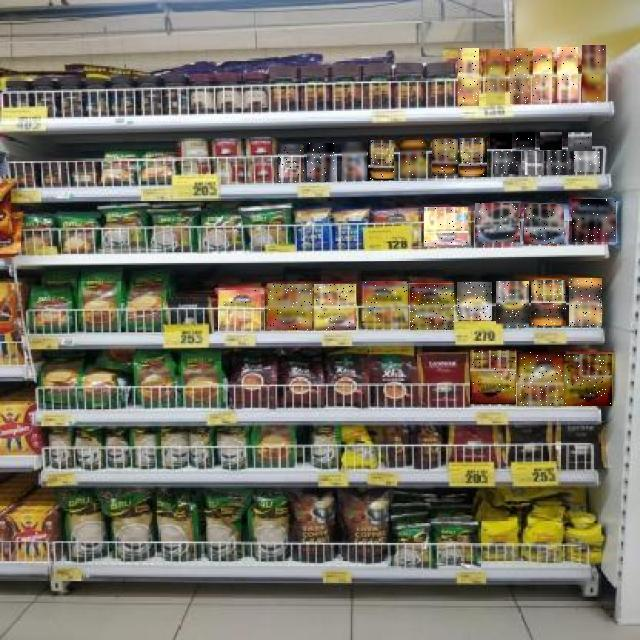Coffee: (517, 352, 565, 406), (565, 354, 613, 406), (470, 350, 516, 404), (364, 283, 408, 329), (411, 284, 455, 330), (268, 284, 312, 330), (572, 200, 616, 244), (315, 284, 357, 330), (219, 290, 265, 332), (475, 204, 520, 246), (424, 207, 468, 247), (531, 280, 566, 326), (524, 204, 564, 244), (569, 279, 602, 327), (496, 282, 529, 328), (582, 45, 606, 101), (457, 282, 492, 320), (458, 49, 479, 107), (557, 48, 578, 102), (459, 138, 487, 177), (308, 143, 336, 182), (533, 48, 552, 104), (486, 49, 505, 105), (369, 140, 395, 180), (510, 48, 528, 104), (433, 140, 459, 178), (400, 140, 426, 178), (278, 144, 304, 182), (342, 143, 367, 181), (574, 152, 600, 174), (522, 151, 544, 175), (494, 152, 518, 174), (548, 151, 569, 175), (568, 132, 592, 151), (541, 132, 563, 150), (490, 133, 512, 149), (516, 132, 535, 150)
